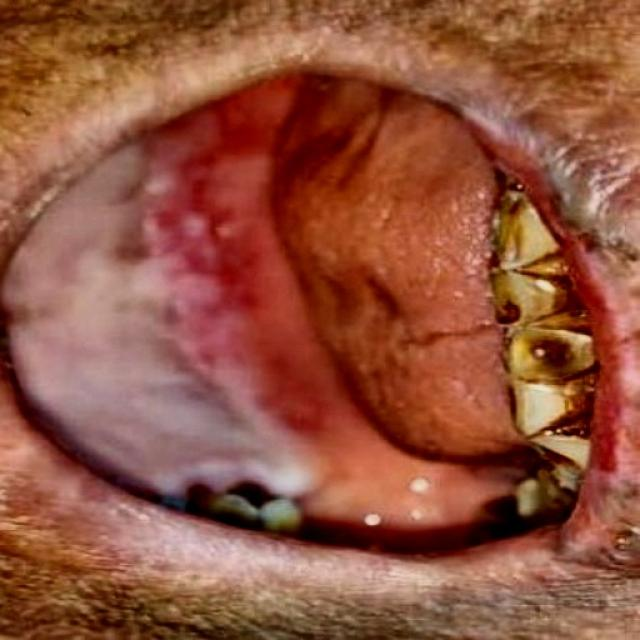cancer-detection: (6, 133, 336, 500)
processing_area: (5, 70, 532, 524)
